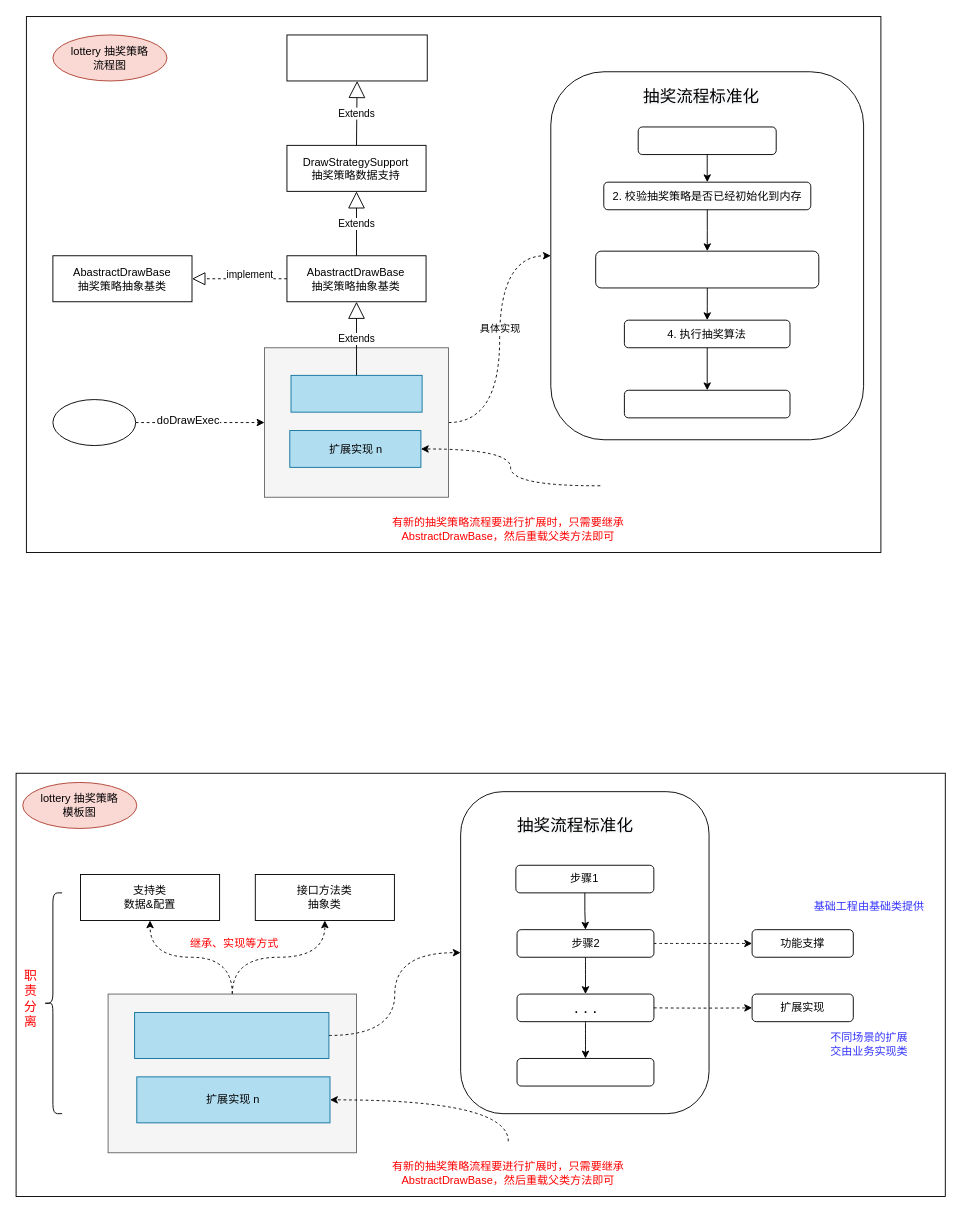
Image size: 961x1221. Some labels were removed from this diagram. The centre of each missing label's shape, as x and y in pixels:
"1. 获取抽奖策略" goes at (x=706, y=140).
"3. 获取不在抽奖范围内的列表， 包括：奖品库存为空、风控策略、临时调整等" goes at (x=707, y=269).
"5. 包装中奖结果" goes at (x=706, y=403).
"DrawConfig 封装抽奖策略组 Map<策略Mode，算法>" goes at (x=356, y=57).
"DrawExecImpl 抽奖入口实现" goes at (x=356, y=393).
"抽奖流程" goes at (x=94, y=422).
"模板标准 接口方法" goes at (x=231, y=1035).
"步骤n" goes at (x=585, y=1072).
